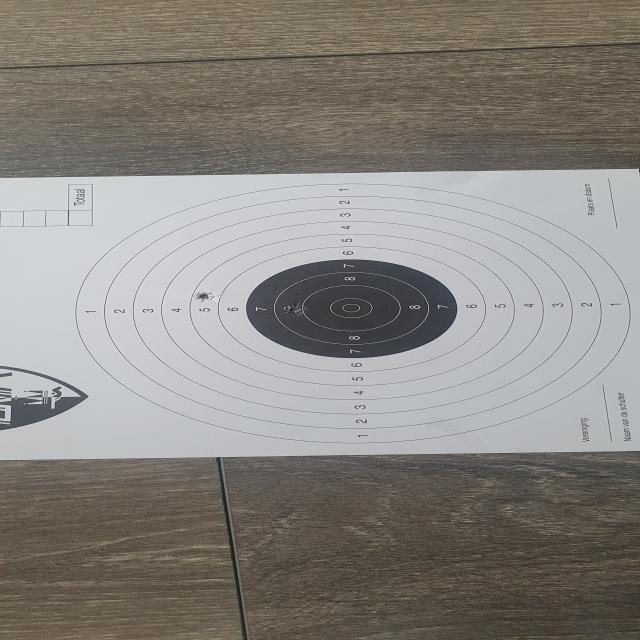10: (282, 301, 310, 318)
6: (192, 290, 222, 304)
Black Contour: (246, 258, 458, 358)
Target: (71, 181, 634, 444)
